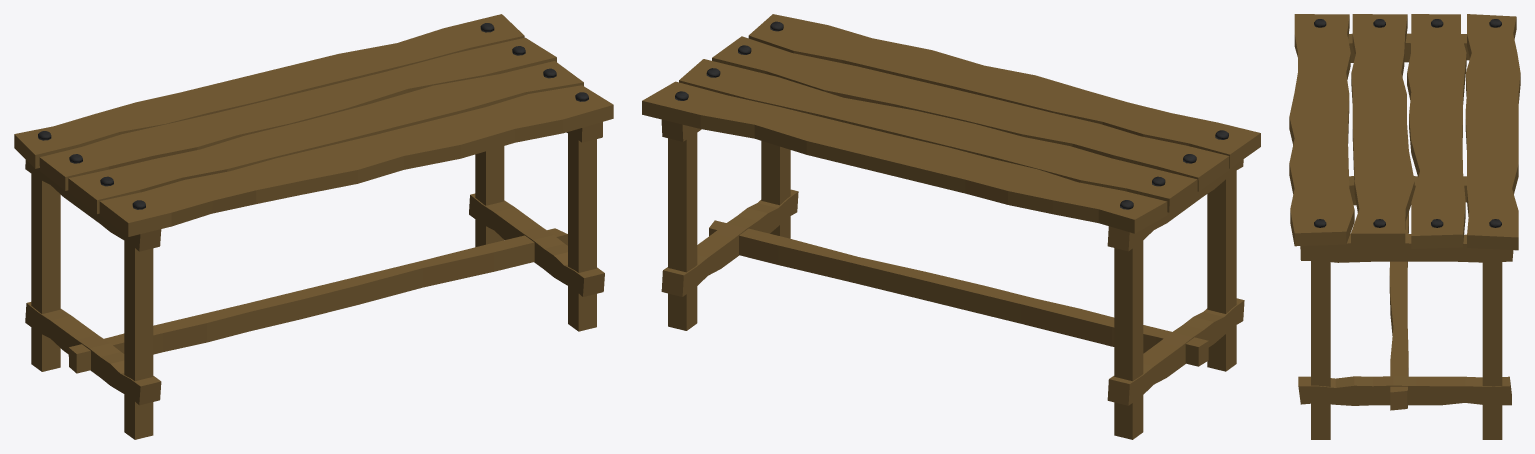
Rendered from masa.fbx.
3 renders of one model, left to right at view 1: azimuth 30°, elevation 25°; view 2: azimuth 150°, elevation 25°; view 3: azimuth 270°, elevation 25°, orthographic. The views are drawn at different scales.
Visible parts, largest first — view 1: Cube.082; view 2: Cube.082; view 3: Cube.082.
Boxes of the visible parts, x1,y1,x2,y2 form: Cube.082: (14,14,613,439); Cube.082: (642,14,1260,439); Cube.082: (1289,14,1520,439).
Size of the model in its own units: 161 by 72.07 by 70.35.
